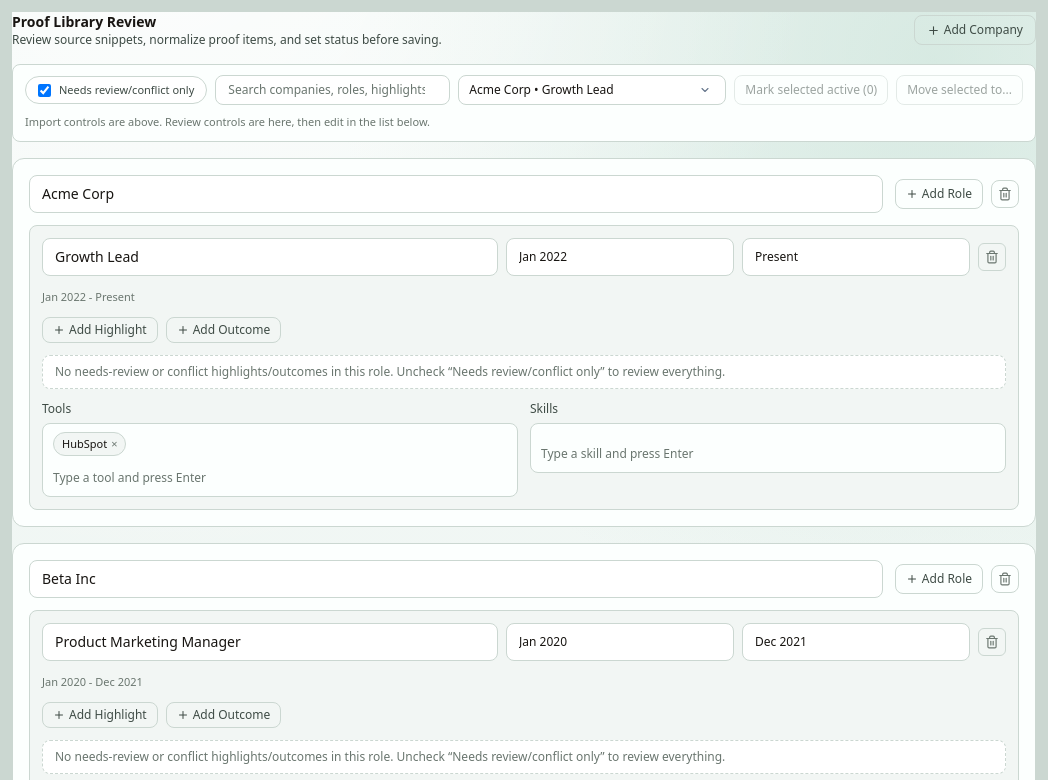
Test: DigitalResumeBuilder › searches across company and role metadata and shows result count
The width and height of the screenshot is (1048, 780).
Type "Acme" into the search field with placeholder "Search companies, roles" at (333, 90), box [215, 75, 450, 105]
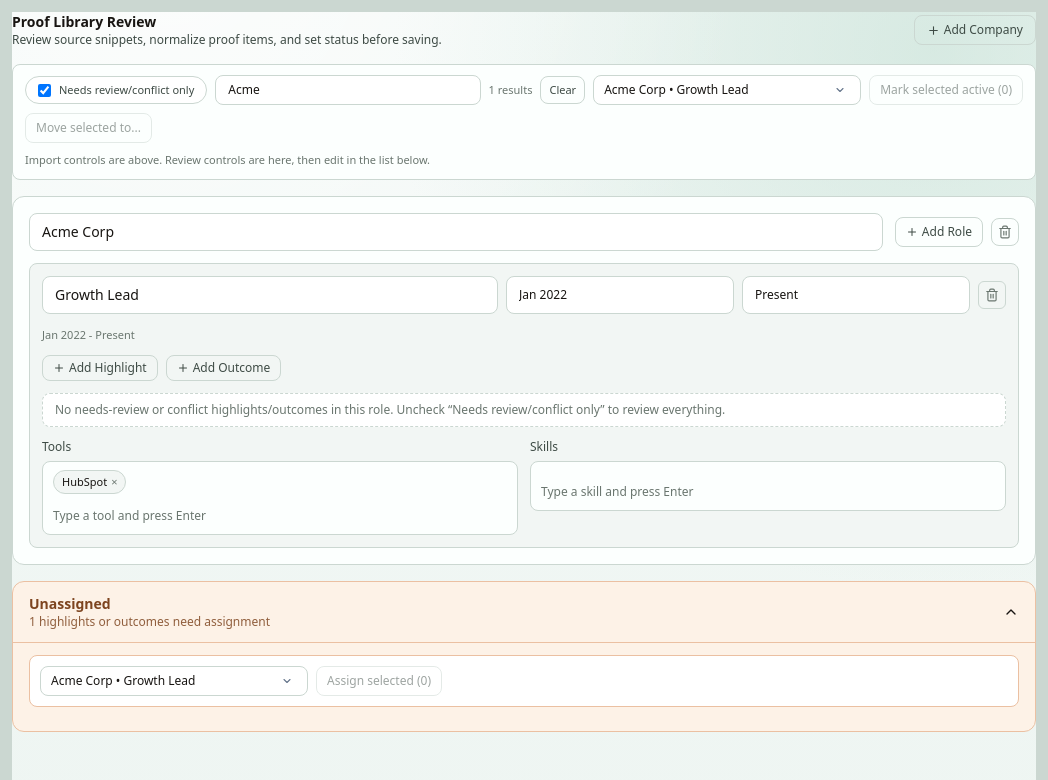
Expected: the 1st field showing "Acme Corp" is shown, [29, 213, 883, 251]
Result: the text "1 results" is shown at [489, 81, 532, 99]
